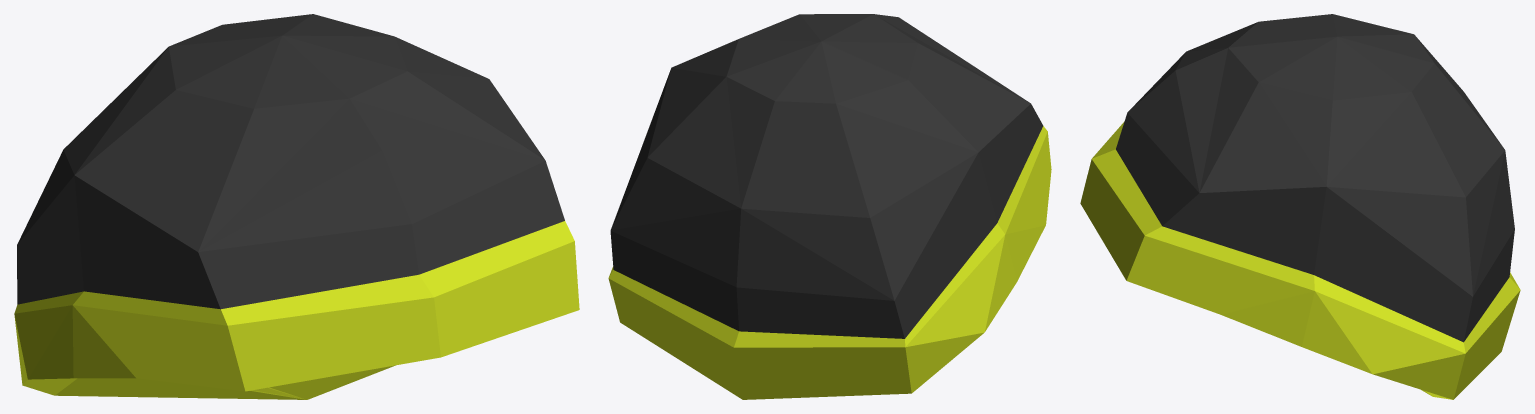
Rendered from SM_Attachment_Beanie_01.glb.
3 renders of one model, left to right at view 1: azimuth 30°, elevation 25°; view 2: azimuth 150°, elevation 25°; view 3: azimuth 270°, elevation 25°, orthographic. The views are drawn at different scales.
Parts seen in each view (by area): view 1: SM_Attachment_Beanie_01; view 2: SM_Attachment_Beanie_01; view 3: SM_Attachment_Beanie_01.
Part boxes in pixels (box(x1,y1,x2,y2)): SM_Attachment_Beanie_01: box(14, 14, 579, 399); SM_Attachment_Beanie_01: box(608, 14, 1051, 399); SM_Attachment_Beanie_01: box(1080, 14, 1520, 399).
Bounding box in the file's own units: 0.2993 × 0.2388 × 0.3024.
Materials: 1 (1 with a texture image).
